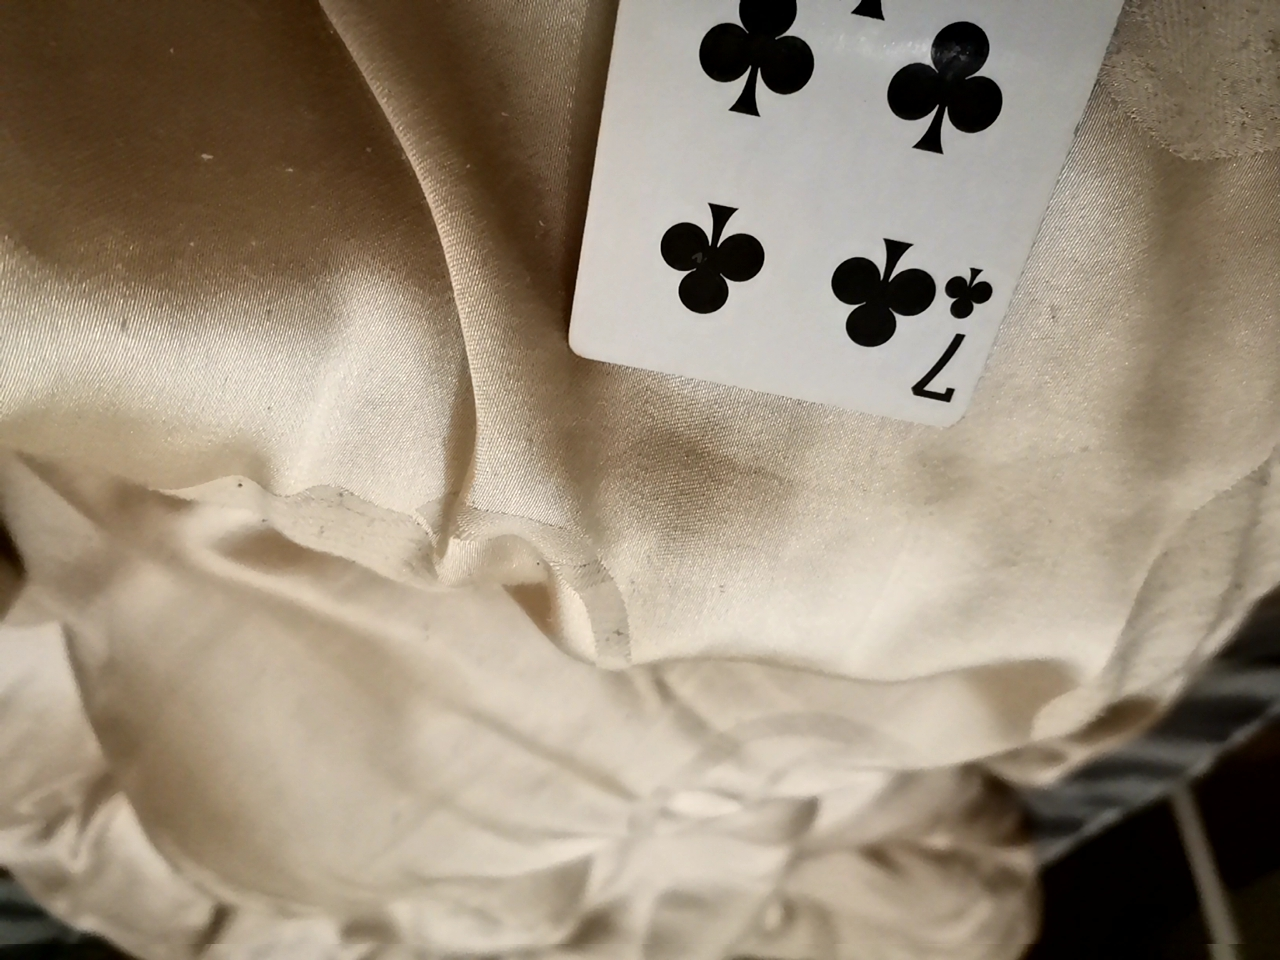mh 7: (564, 0, 1125, 431)
